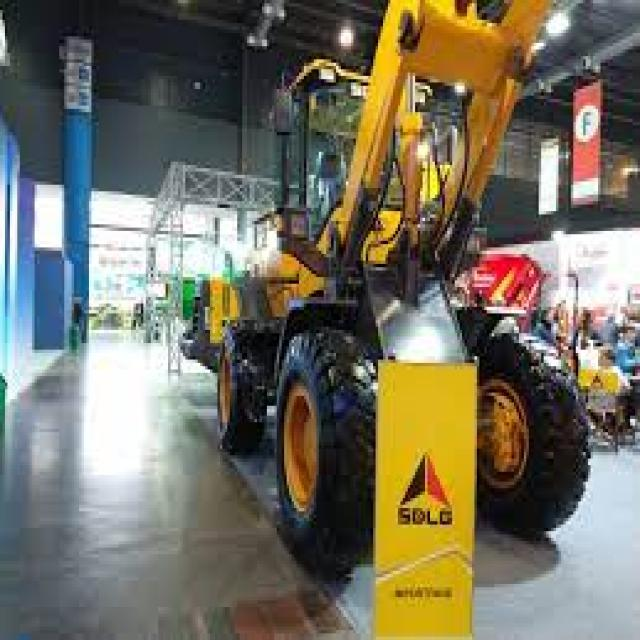buldozerpayloadergrader: (216, 54, 590, 552)
